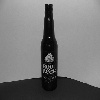beer: (40, 2, 60, 91)
